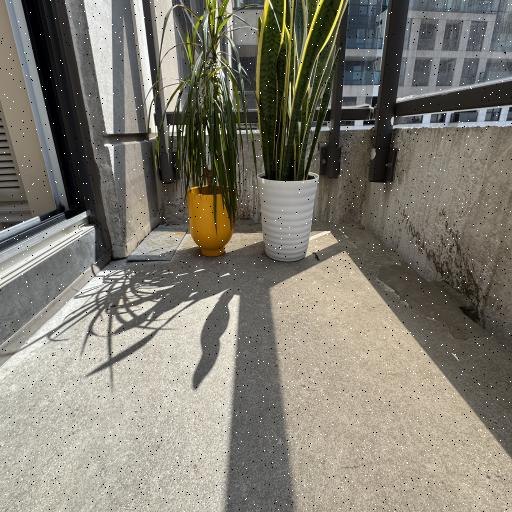Plant Pot: (257, 167, 320, 261), (188, 182, 236, 257)
